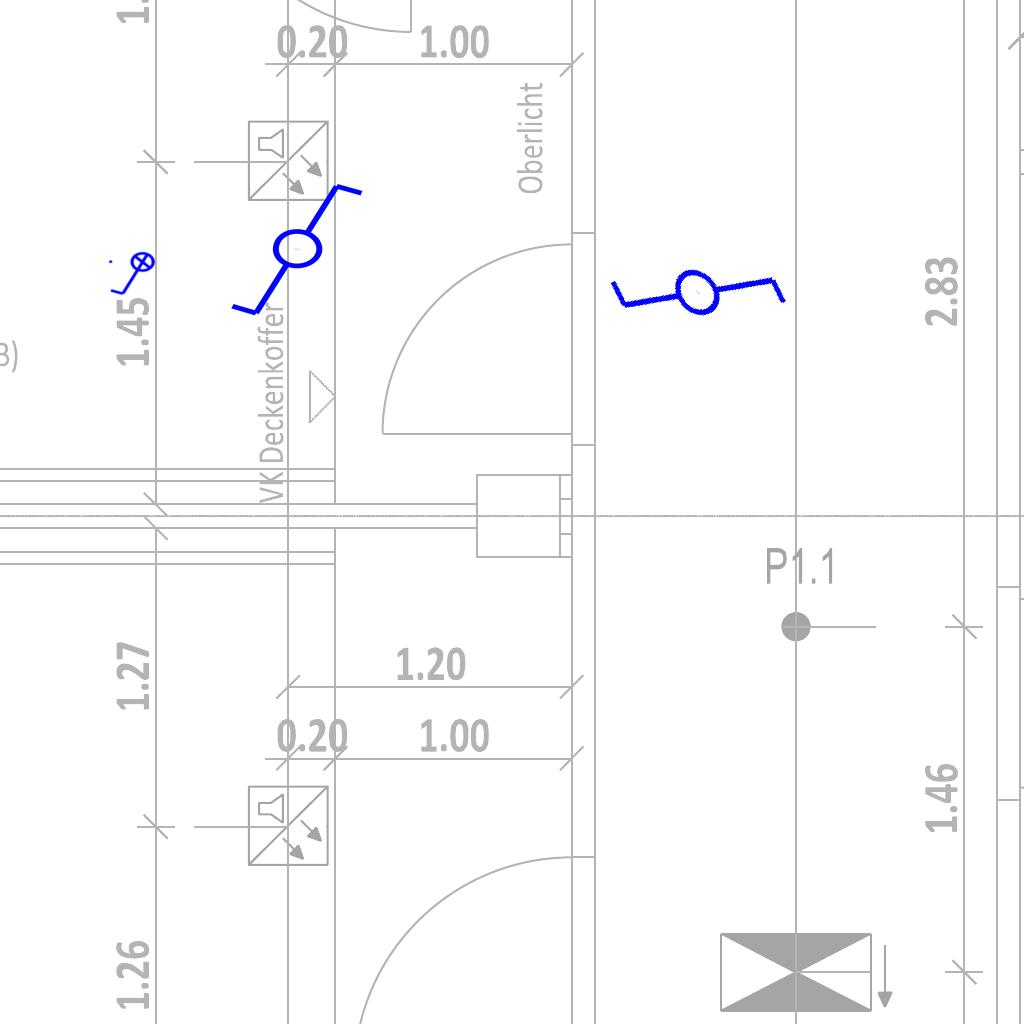Ausschalter_beleuchtet: (106, 251, 162, 299)
Wechselschalter: (587, 178, 800, 392), (227, 179, 384, 323)
